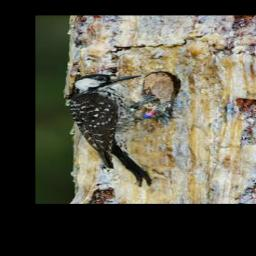Woodpecker: (67, 74, 171, 186)
